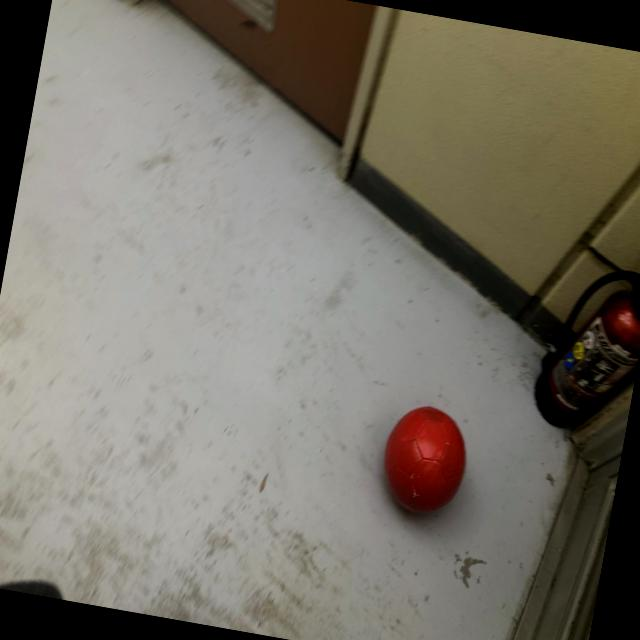red_ball: (376, 401, 474, 520)
